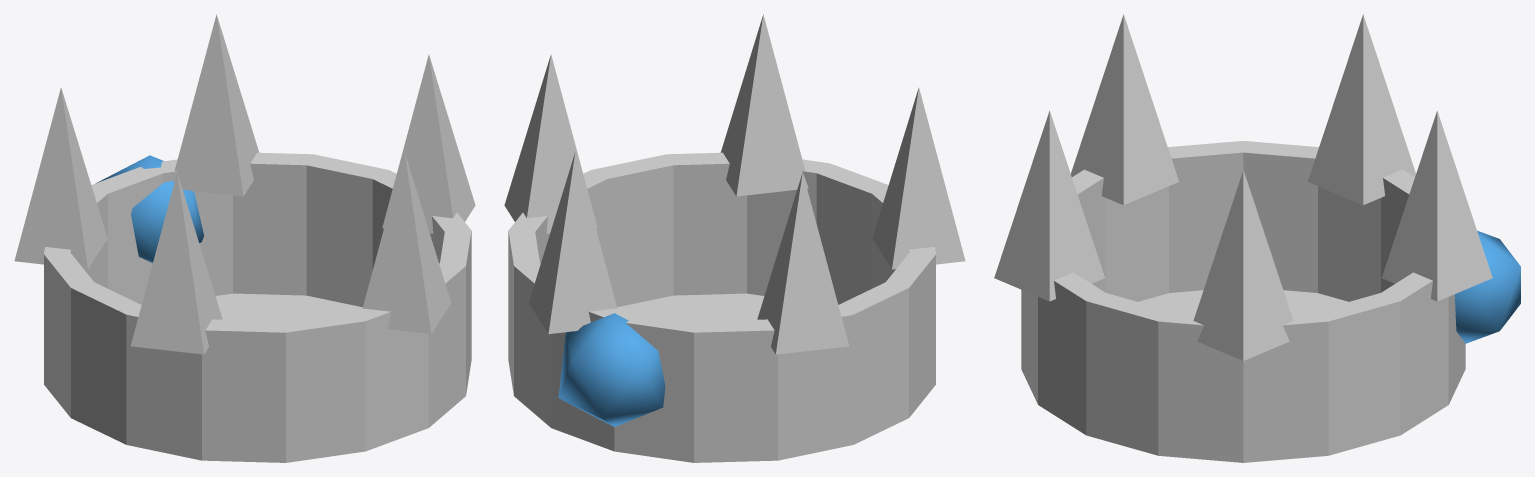
The model's file is gelatin_crown.glb.
3 views of the same model, side by side, from view 1: azimuth 30°, elevation 25°; view 2: azimuth 150°, elevation 25°; view 3: azimuth 270°, elevation 25° (orthographic). The views are drawn at different scales.
Visible parts, largest first — view 1: gelatin_crown_v0; view 2: gelatin_crown_v0; view 3: gelatin_crown_v0.
Part boxes in pixels (left/top/right/bottom): gelatin_crown_v0: left=14, top=14, right=475, bottom=462; gelatin_crown_v0: left=504, top=14, right=965, bottom=462; gelatin_crown_v0: left=994, top=14, right=1520, bottom=462.
Size of the model in its own units: 0.26 by 0.17 by 0.2844.
